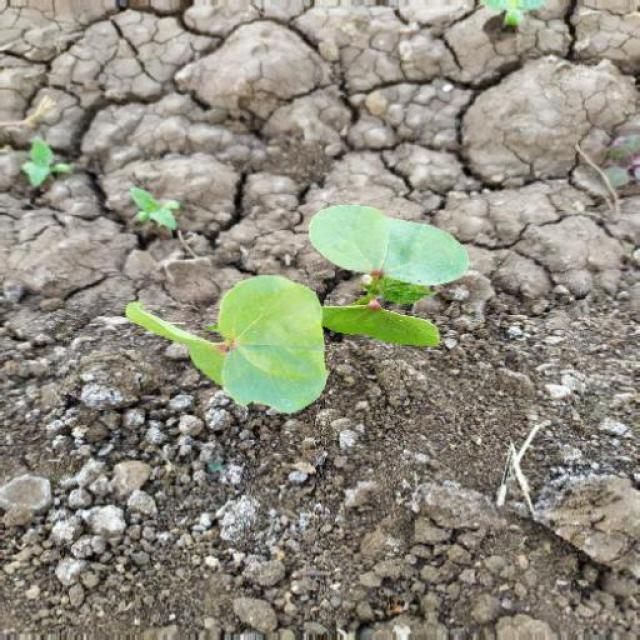weed: (119, 186, 516, 410)
